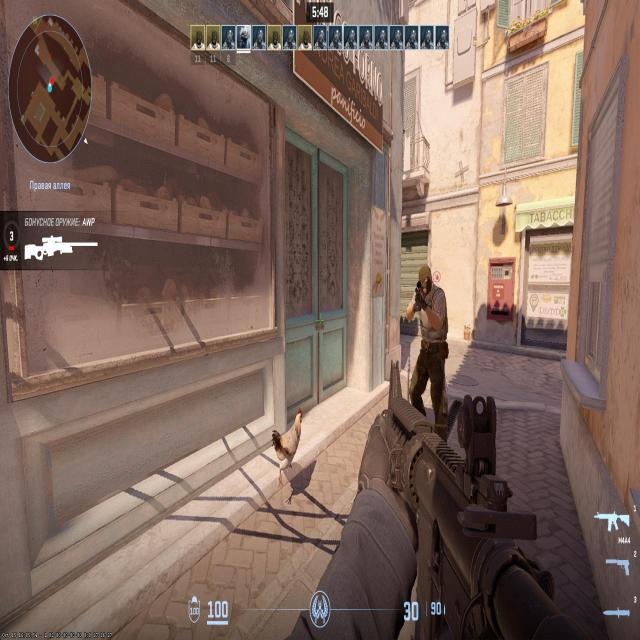T: (414, 272, 445, 416)
T_heat: (420, 273, 430, 304)
